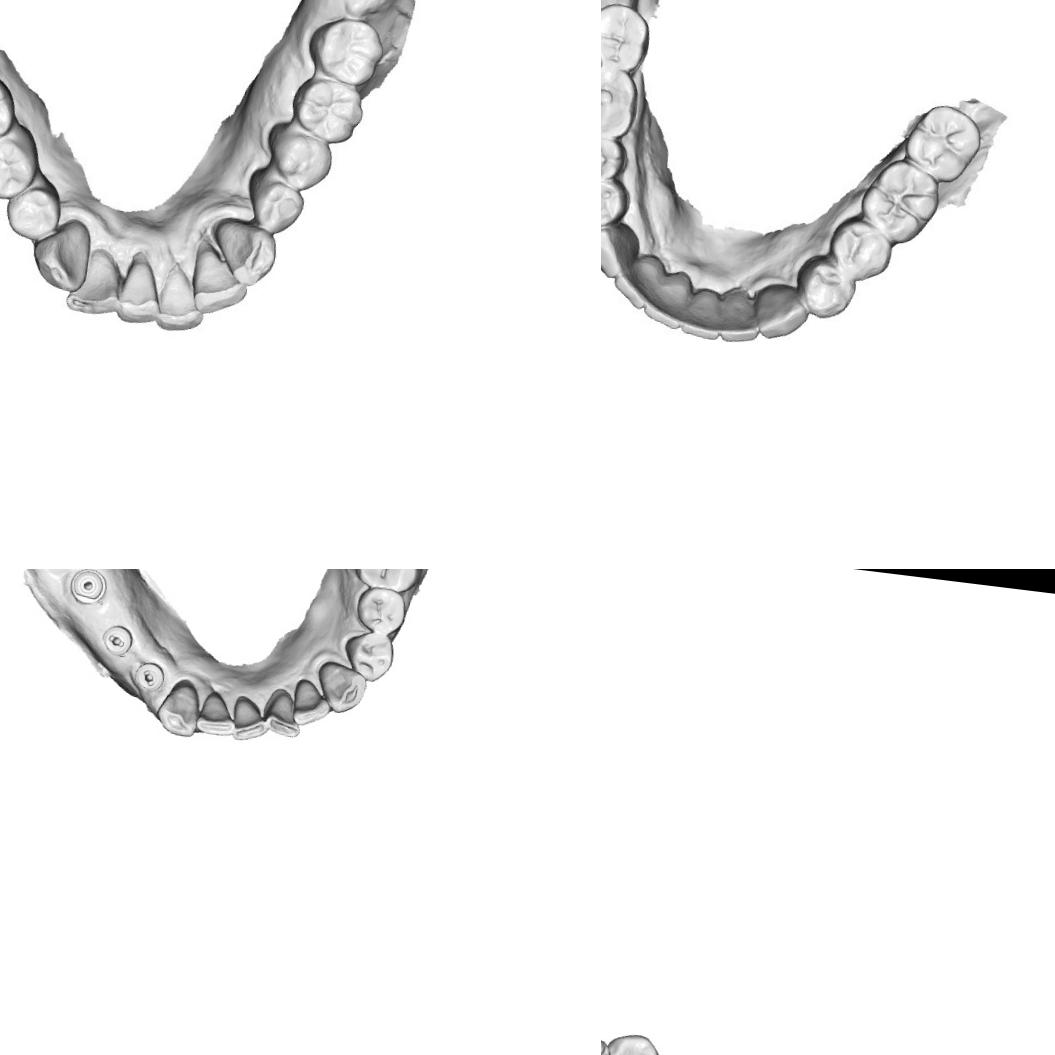canine: (210, 212, 280, 285), (32, 216, 92, 286), (312, 658, 370, 718), (752, 284, 810, 340), (153, 678, 201, 740), (601, 222, 640, 285), (603, 1029, 662, 1055)
implant: (66, 569, 110, 608)
implant_minus: (130, 657, 167, 695), (100, 620, 136, 658)
incisor: (154, 255, 208, 337), (63, 256, 128, 322), (190, 237, 246, 309), (610, 247, 672, 312), (116, 255, 168, 327), (644, 264, 696, 331), (717, 283, 766, 349), (682, 281, 724, 344), (288, 676, 334, 730), (226, 692, 272, 744), (260, 690, 306, 741), (194, 688, 240, 738)
molar: (862, 158, 940, 238), (902, 103, 981, 177), (309, 14, 387, 86), (294, 75, 364, 144), (601, 0, 648, 73), (601, 64, 640, 138), (348, 569, 432, 596)
premolar: (270, 132, 332, 189), (350, 582, 410, 639), (0, 185, 62, 240), (339, 627, 398, 684), (836, 222, 896, 278), (248, 178, 307, 234), (805, 259, 857, 318), (0, 134, 35, 196), (601, 125, 625, 185), (601, 176, 626, 230)
